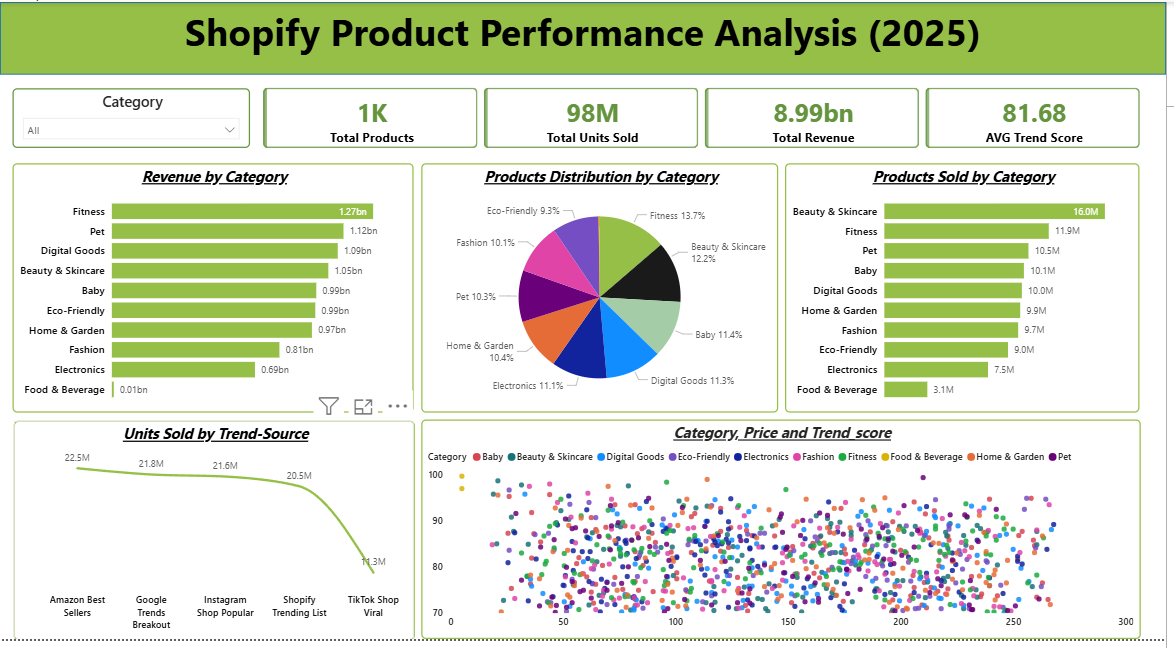

Layout of this report page (visuals, bound fields, positions):
{"tool":"powerbi","page":{"name":"Page 1","canvas":[1500,820],"ordinal":0},"visuals":[{"type":"cardVisual","fields":{"Data":["public shopify_products.Total Products","public shopify_products.Total Units Sold","public shopify_products.Total Revenue","public shopify_products.AVG Trend Score"]},"box":[321.7,93.3,1162.9,112.8],"z":0},{"type":"shape","box":[0,0,1499.9,93.3],"z":1000},{"type":"textbox","box":[16.7,0,1467.9,93.3],"z":2000},{"type":"clusteredBarChart","title":"Revenue by Category","fields":{"Category":["public shopify_products.category"],"Y":["Sum(public shopify_products.revenue)"]},"box":[16.7,207.1,516.1,320.7],"z":3000},{"type":"clusteredBarChart","title":"Products Sold by Category","fields":{"Category":["public shopify_products.category"],"Y":["Sum(public shopify_products.units_sold)"]},"box":[1010.6,207.1,456,320.7],"z":4000},{"type":"pieChart","title":"Products Distribution by Category","fields":{"Category":["public shopify_products.category"],"Y":["CountNonNull(public shopify_products.product_id)"]},"box":[541.2,207.1,459.4,320.7],"z":5000},{"type":"scatterChart","title":"Category, Price and Trend_score","fields":{"X":["public shopify_products.price"],"Y":["public shopify_products.trend_score"],"Series":["public shopify_products.category"]},"box":[541.2,537.9,925.4,282.3],"z":6000},{"type":"slicer","title":"Category","fields":{"Values":["public shopify_products.category"]},"box":[16.7,110.2,305.7,76.8],"z":7000},{"type":"lineChart","title":"Units Sold by Trend-Source","fields":{"Category":["public shopify_products.trend_source"],"Y":["Sum(public shopify_products.units_sold)"]},"box":[17,538,516,282],"z":8000}]}

Visuals, with their boxes in screenshot pixels (x1, y1, x2, y2), scaled from the page's 1500x820 canvas onto the 1174x648 screenshot:
cardVisual - public shopify_products.Total Products x public shopify_products.Total Units Sold: 252,74,1162,163
shape: 0,0,1173,74
textbox: 13,0,1162,74
"Revenue by Category" clusteredBarChart: 13,164,417,417
"Products Sold by Category" clusteredBarChart: 791,164,1148,417
"Products Distribution by Category" pieChart: 424,164,783,417
"Category, Price and Trend_score" scatterChart: 424,425,1148,647
"Category" slicer: 13,87,252,148
"Units Sold by Trend-Source" lineChart: 13,425,417,647
